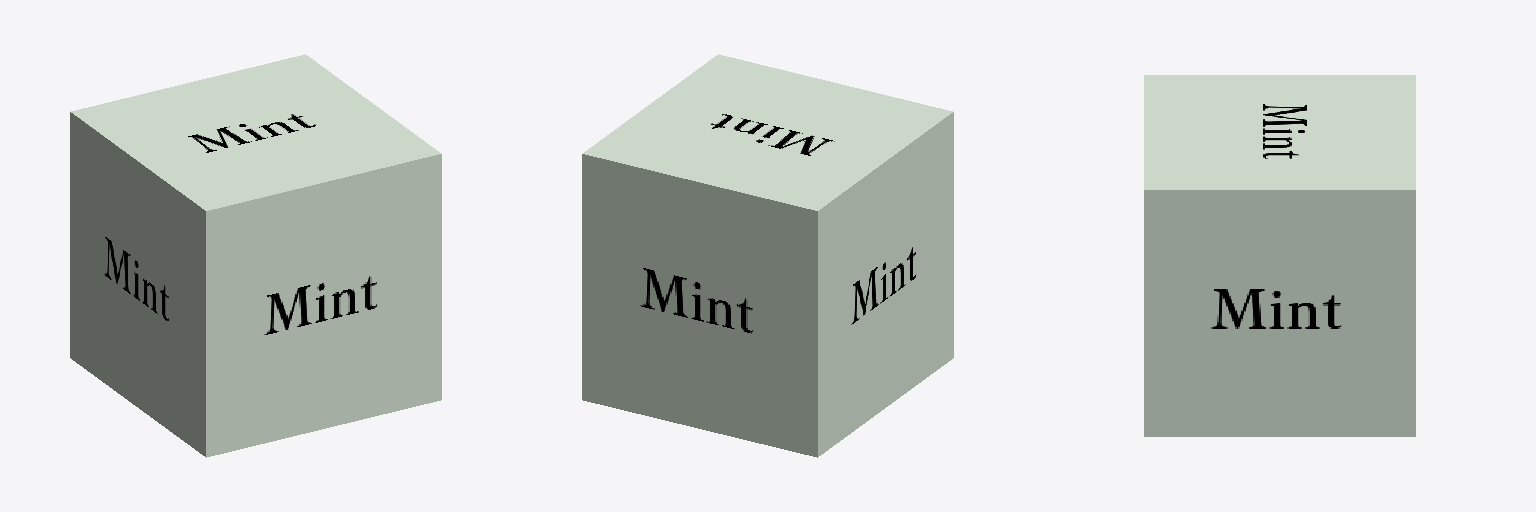
3 renders of one model, left to right at view 1: azimuth 30°, elevation 25°; view 2: azimuth 150°, elevation 25°; view 3: azimuth 270°, elevation 25°, orthographic.
Visible parts, largest first — view 1: Cube; view 2: Cube; view 3: Cube.
Boxes of the visible parts, <box> form: Cube: <box>70,54,441,457</box>; Cube: <box>582,54,953,457</box>; Cube: <box>1144,75,1415,436</box>.
Bounding box in the file's own units: 0.6 × 0.6 × 0.6.
1 materials, 1 textured.